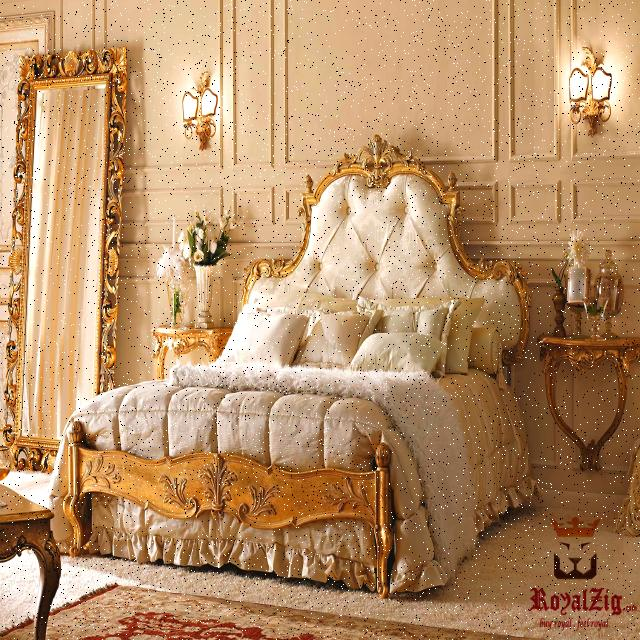bed: (68, 260, 534, 545)
